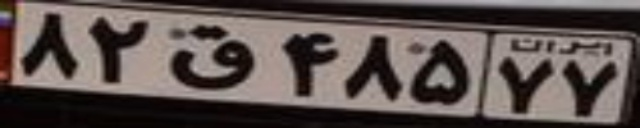2: (87, 15, 149, 83)
4: (277, 30, 340, 96)
5: (408, 38, 470, 104)
7: (494, 54, 556, 115), (558, 57, 618, 117)
8: (20, 11, 77, 79), (345, 33, 401, 101)
ghaf: (170, 24, 256, 89)
